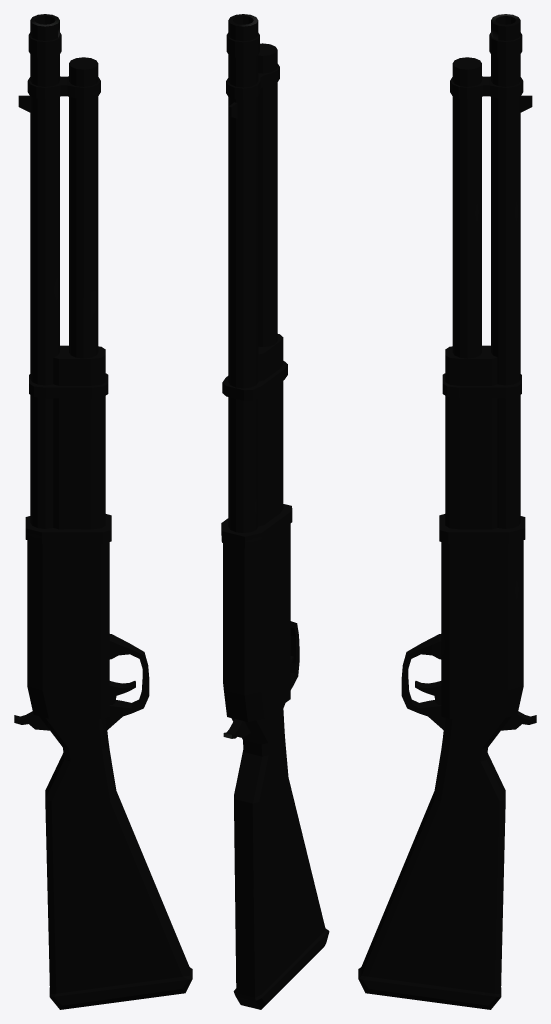
The model's file is Win1897.fbx.
3 renders of one model, left to right at view 1: azimuth 90°, elevation 25°; view 2: azimuth 150°, elevation 25°; view 3: azimuth 270°, elevation 25°, orthographic.
Visible parts, largest first — view 1: asset_Win1897.001; view 2: asset_Win1897.001; view 3: asset_Win1897.001.
Part boxes in pixels (x1=…): asset_Win1897.001: x1=14, y1=14, x2=192, y2=1009; asset_Win1897.001: x1=221, y1=14, x2=329, y2=1009; asset_Win1897.001: x1=358, y1=14, x2=536, y2=1009.
Bounding box in the file's own units: 0.0256 × 0.6 × 0.0985.
